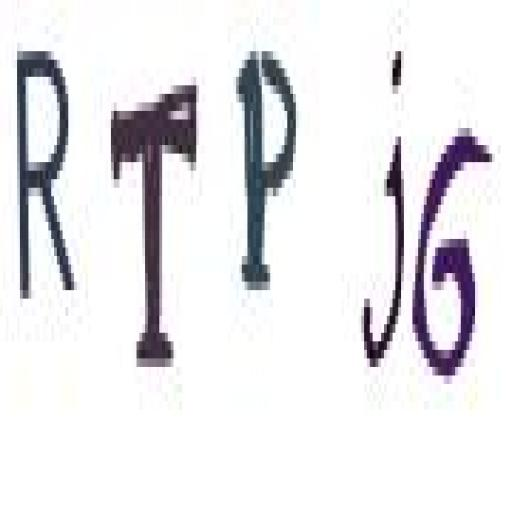6: (411, 108, 496, 388)
P: (232, 38, 300, 308)
R: (13, 27, 82, 320)
T: (105, 74, 205, 384)
j: (357, 36, 408, 388)
